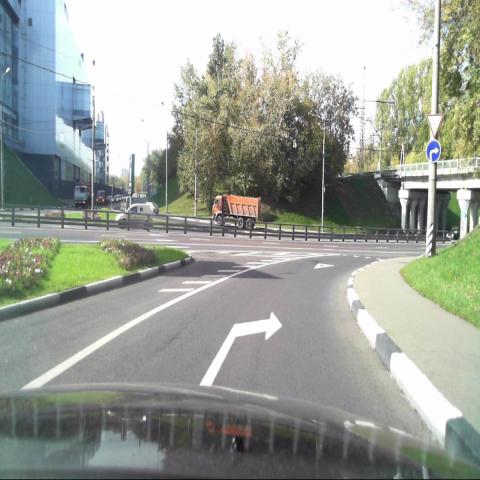4_1_2: (425, 138, 442, 166)
